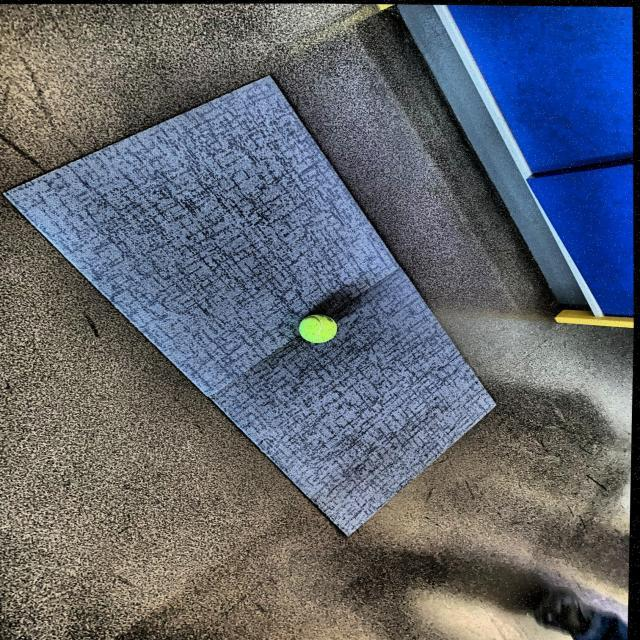tennis-ball: (294, 305, 345, 350)
